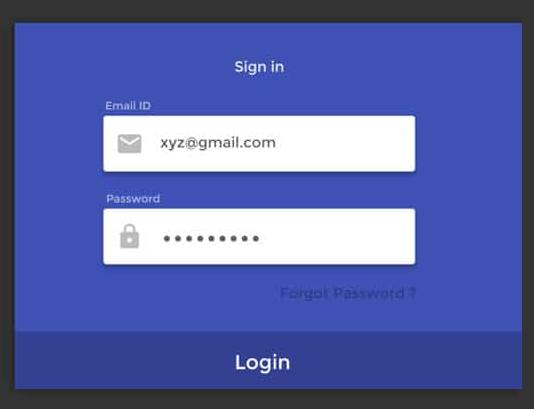button: (13, 327, 526, 394)
field: (101, 113, 420, 178), (101, 206, 418, 267)
field_with_label: (97, 97, 426, 181), (97, 191, 420, 271)
